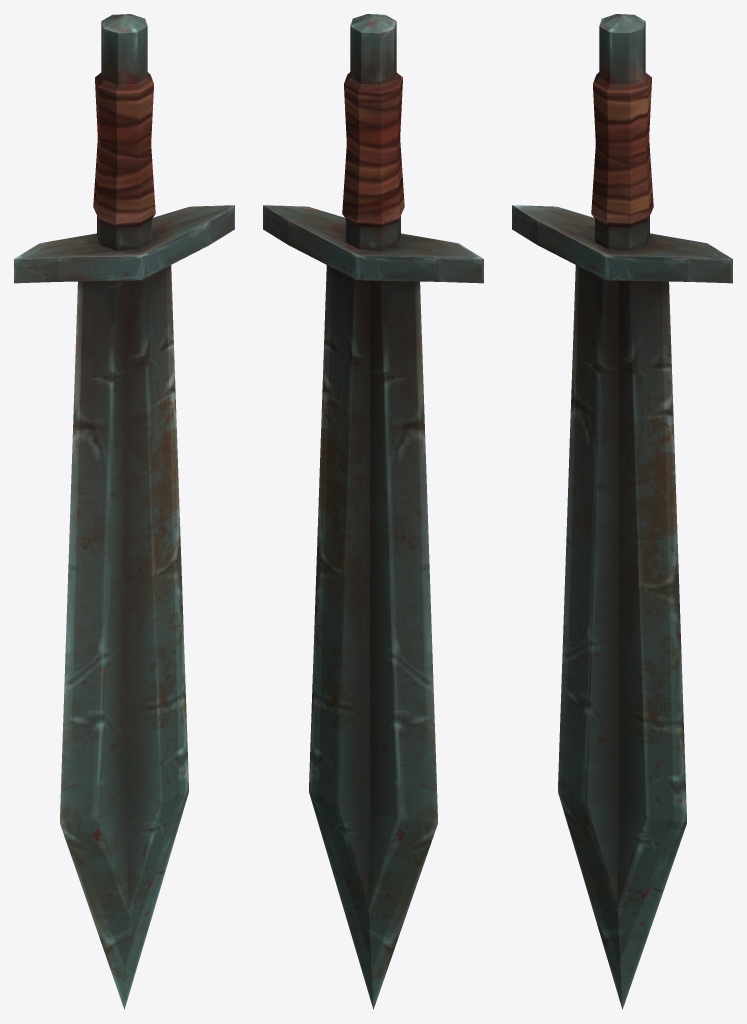
The model's file is sword1.FBX.
3 renders of one model, left to right at view 1: azimuth 30°, elevation 25°; view 2: azimuth 150°, elevation 25°; view 3: azimuth 330°, elevation 25°, orthographic.
Visible parts, largest first — view 1: oneHandedSword; view 2: oneHandedSword; view 3: oneHandedSword.
Boxes of the visible parts, bbox=[...] form: oneHandedSword: bbox=[14, 14, 234, 1009]; oneHandedSword: bbox=[263, 14, 483, 1009]; oneHandedSword: bbox=[512, 14, 732, 1009].
Bounding box in the file's own units: 14.51 × 62.48 × 3.82.
1 material, 1 textured.
